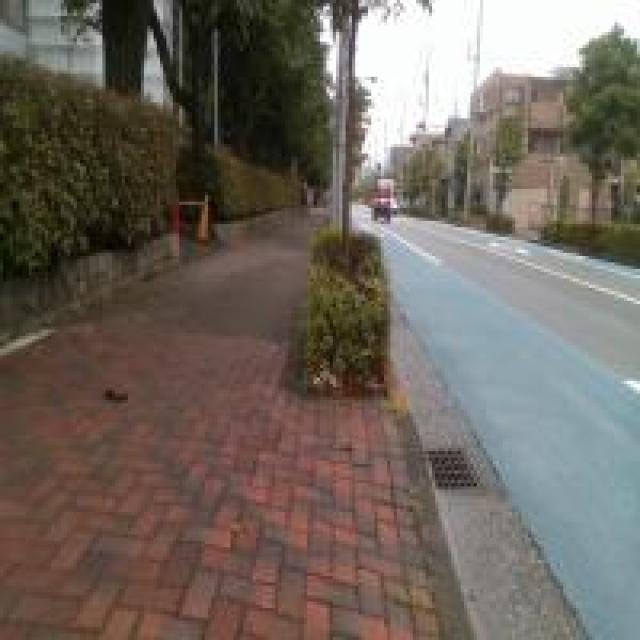Automobile: (371, 178, 394, 222)
Obstacle: (302, 225, 388, 393), (198, 194, 207, 240)
Road: (385, 222, 639, 639)
Sidewalk: (0, 219, 470, 639)
